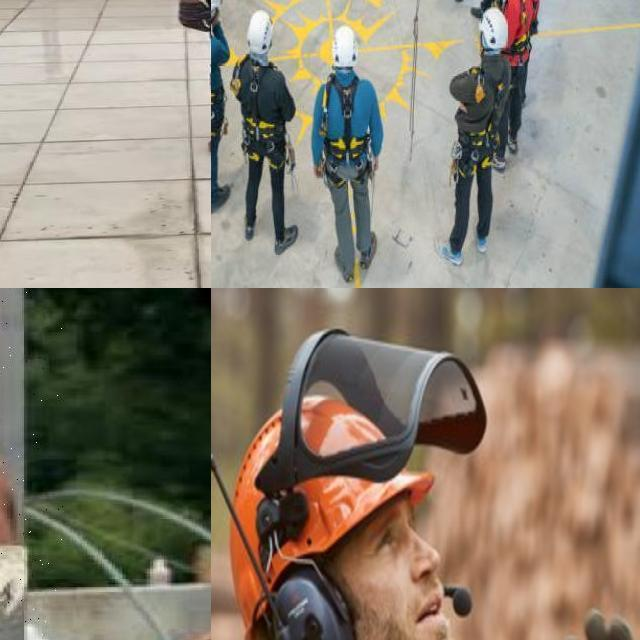Ear-protection: (231, 477, 465, 640)
Harness: (447, 64, 508, 182), (323, 78, 375, 192), (236, 68, 289, 170), (509, 0, 545, 85), (211, 23, 225, 138)
No_Glasses: (370, 484, 429, 580)
person: (211, 367, 606, 640), (0, 288, 63, 640)
